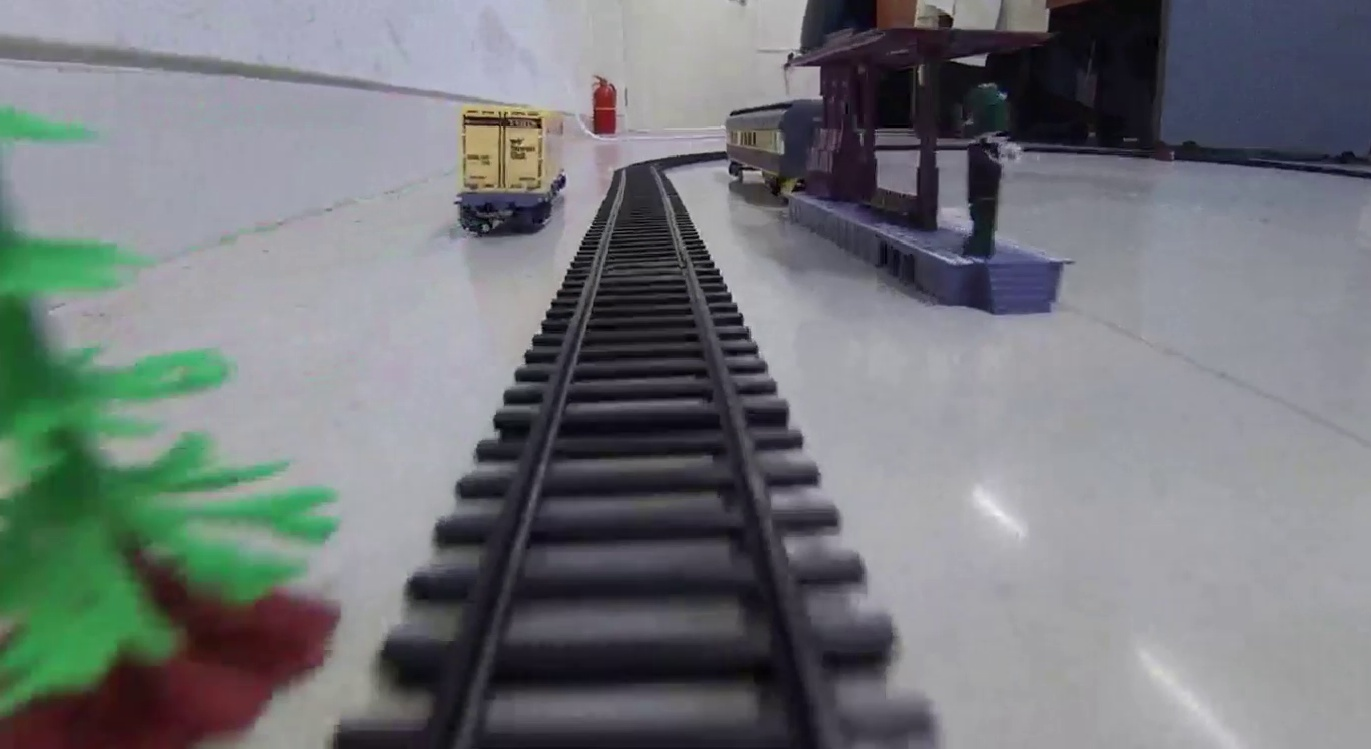people: (957, 82, 1023, 253)
